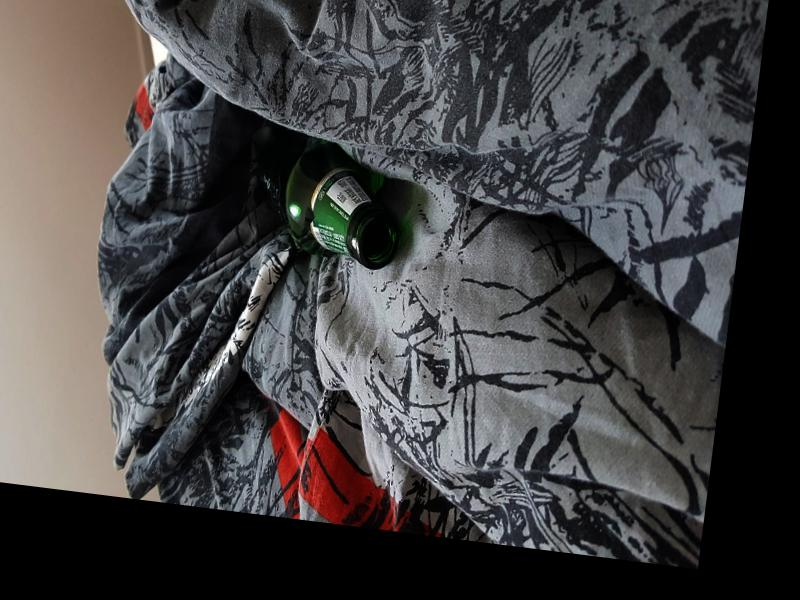Beer: (250, 135, 409, 268)
